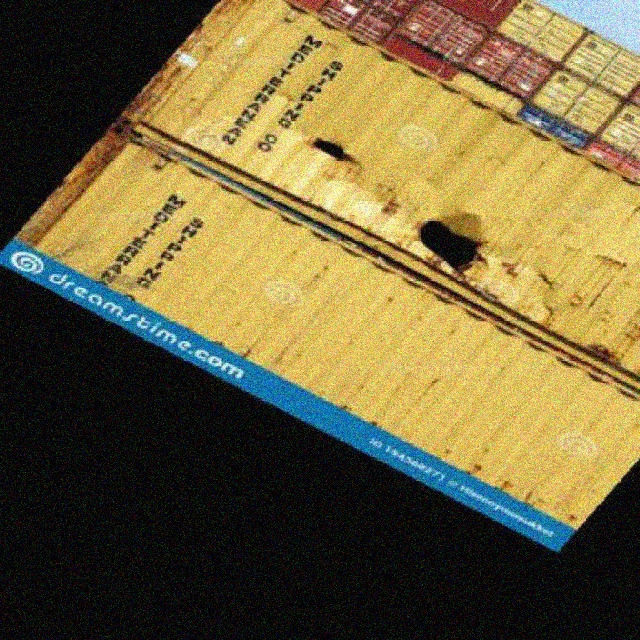Rusty: (504, 251, 635, 337)
